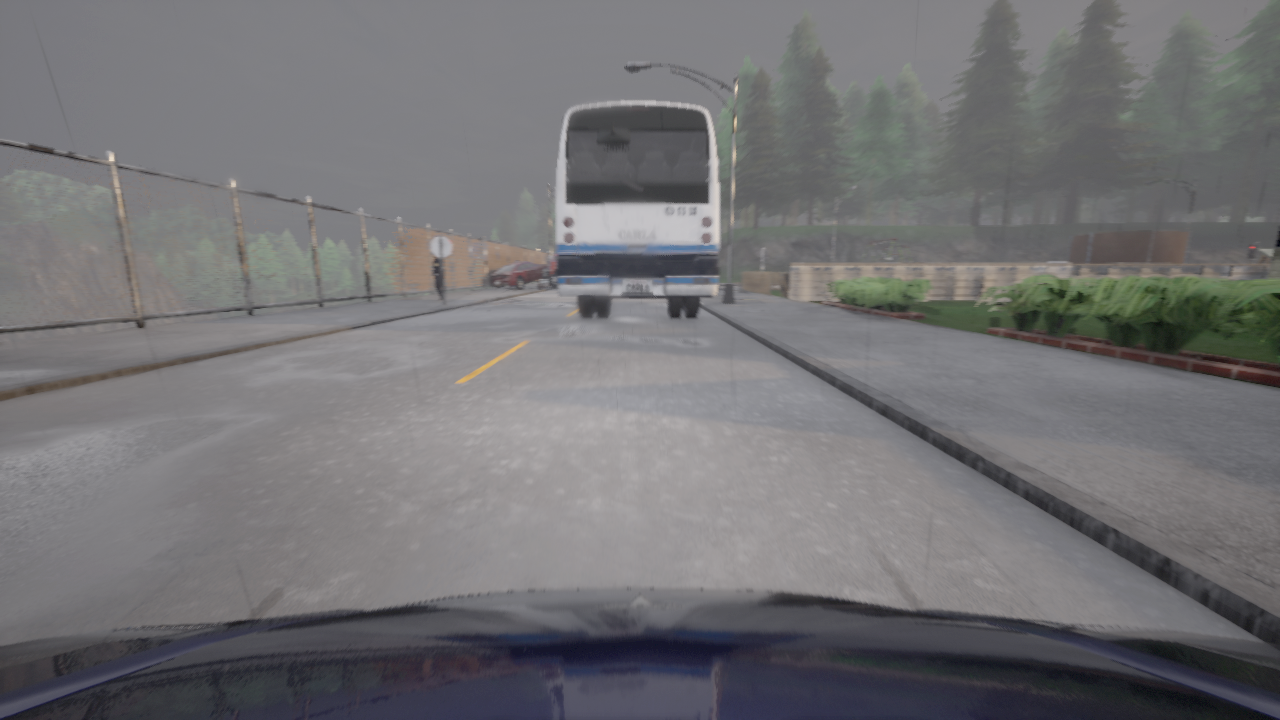cyclist: (0, 588, 1279, 719), (556, 101, 718, 318), (488, 262, 549, 288), (547, 254, 556, 286), (1047, 260, 1066, 262)
pedestrian: (432, 253, 442, 300)
